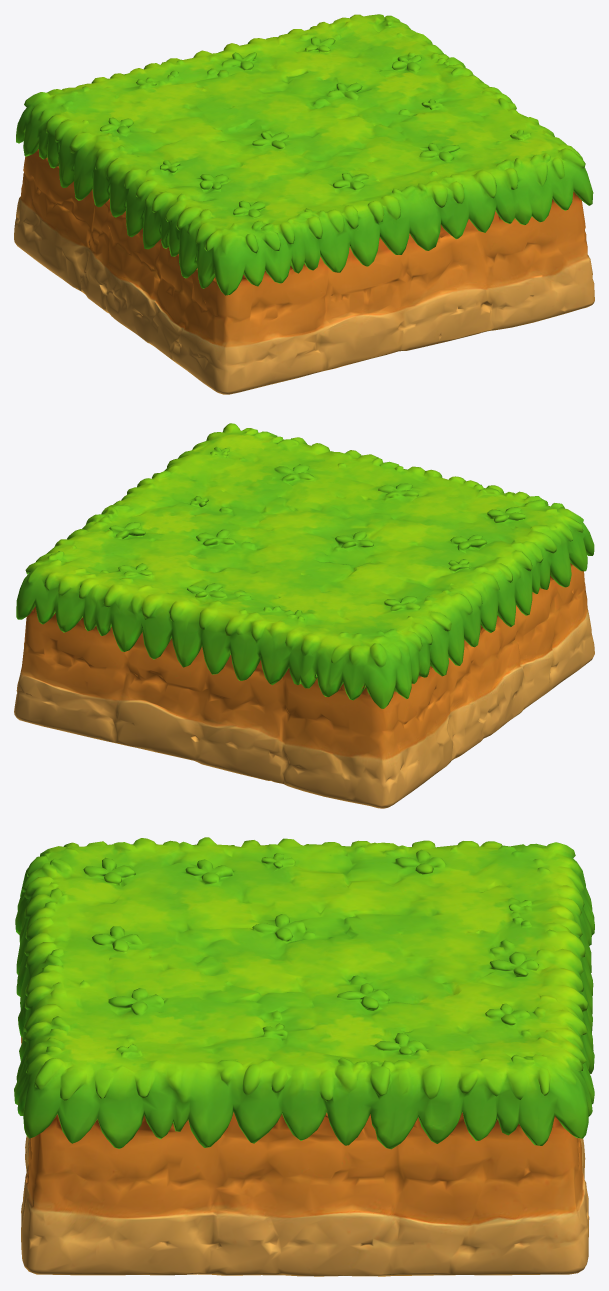
Rendered from artdesign-4bc5d2c1.glb.
3 renders of one model, top to bottom at view 1: azimuth 30°, elevation 25°; view 2: azimuth 150°, elevation 25°; view 3: azimuth 270°, elevation 25°, orthographic. The views are drawn at different scales.
Parts seen in each view (by area): view 1: tripo_node_1b366a28-11d5-465c-a05a-eec0c2806613; view 2: tripo_node_1b366a28-11d5-465c-a05a-eec0c2806613; view 3: tripo_node_1b366a28-11d5-465c-a05a-eec0c2806613.
Part boxes in pixels (bbox=[...]): tripo_node_1b366a28-11d5-465c-a05a-eec0c2806613: bbox=[14, 14, 594, 394]; tripo_node_1b366a28-11d5-465c-a05a-eec0c2806613: bbox=[14, 423, 594, 808]; tripo_node_1b366a28-11d5-465c-a05a-eec0c2806613: bbox=[14, 837, 594, 1276].
Size of the model in its own units: 1 by 0.3904 by 0.9798.
1 material, 1 textured.
